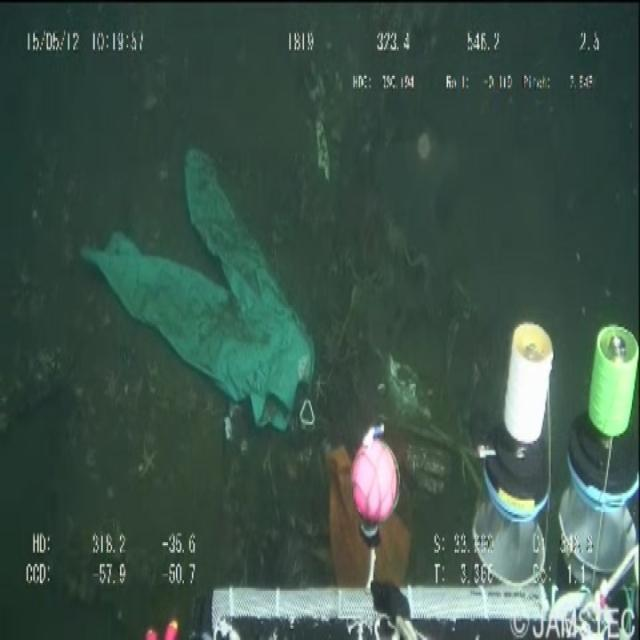Accessories: (81, 142, 323, 436)
